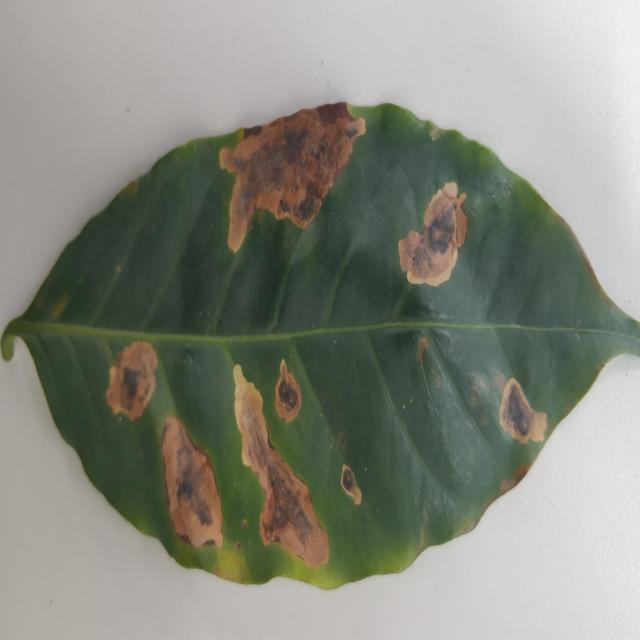Plaga-Minador: (10, 102, 640, 594)
